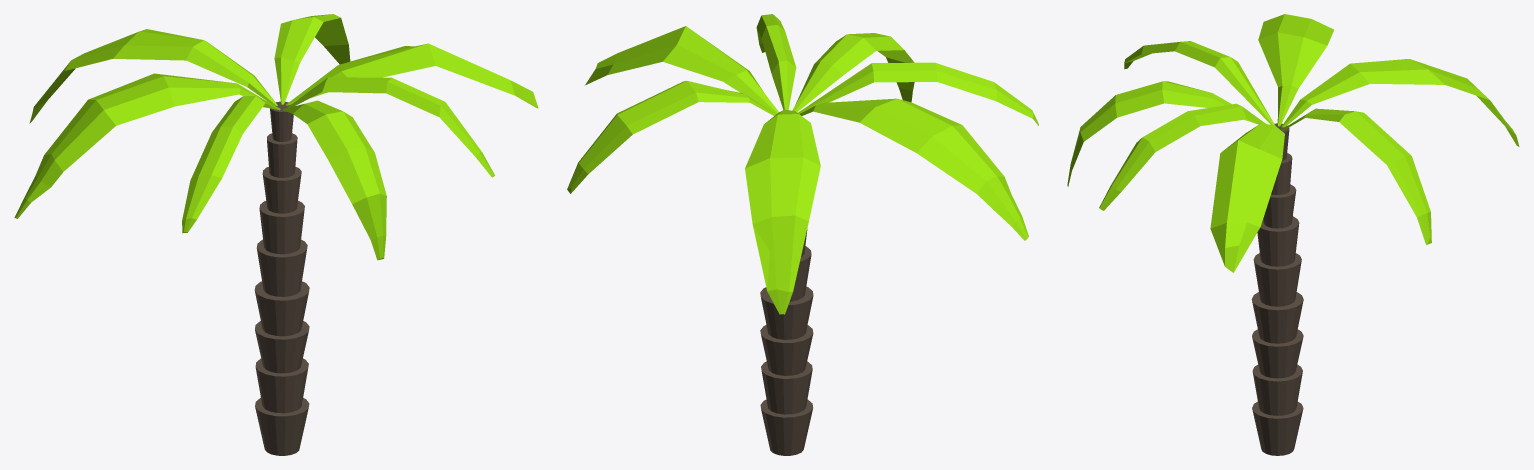
The model's file is palmtree1.fbx.
The picture shows the model from 3 angles, left to right: view 1: azimuth 30°, elevation 25°; view 2: azimuth 150°, elevation 25°; view 3: azimuth 270°, elevation 25°; orthographic projection. The views are drawn at different scales.
Visible parts, largest first — view 1: Cylinder; view 2: Cylinder; view 3: Cylinder.
Part boxes in pixels (x1=…): Cylinder: x1=14, y1=14, x2=538, y2=455; Cylinder: x1=567, y1=14, x2=1038, y2=455; Cylinder: x1=1067, y1=14, x2=1519, y2=455.
Size of the model in its own units: 2343 by 1784 by 1998.
